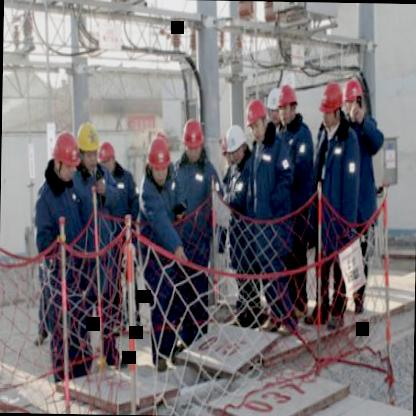helmet: (50, 128, 79, 184), (74, 119, 98, 172), (342, 72, 366, 124), (317, 81, 343, 128), (147, 136, 171, 185), (179, 115, 204, 160), (244, 98, 268, 141), (276, 80, 298, 126), (224, 124, 249, 164), (266, 86, 284, 124), (96, 139, 115, 173)
